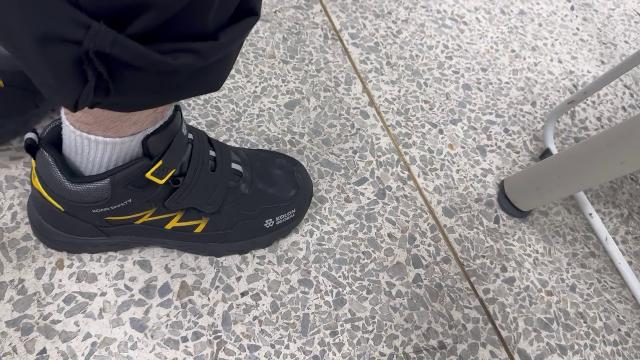shoe_worn: (26, 118, 321, 255)
